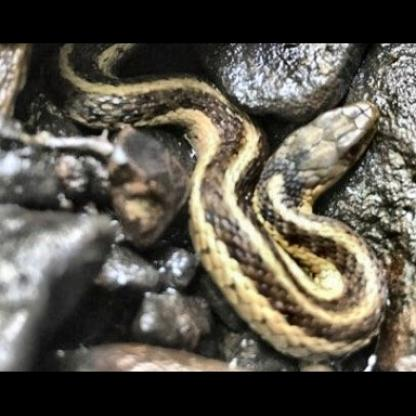Snake: (34, 43, 384, 352)
